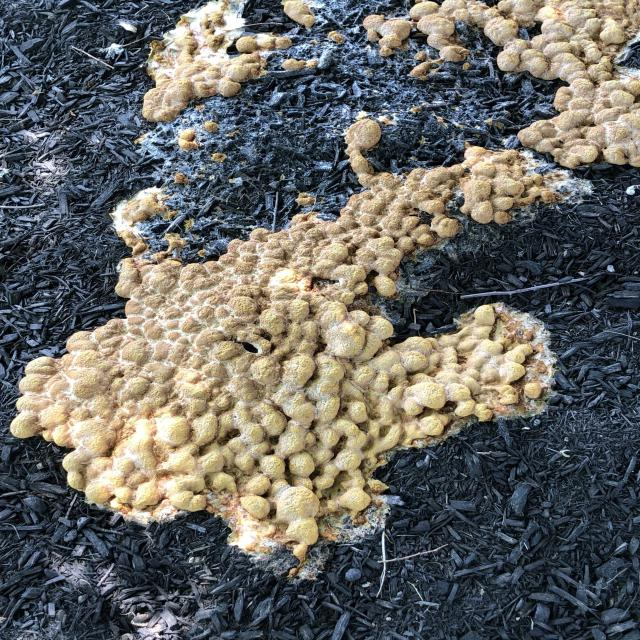Dog_vomit_slime_mold: (35, 0, 640, 603)
